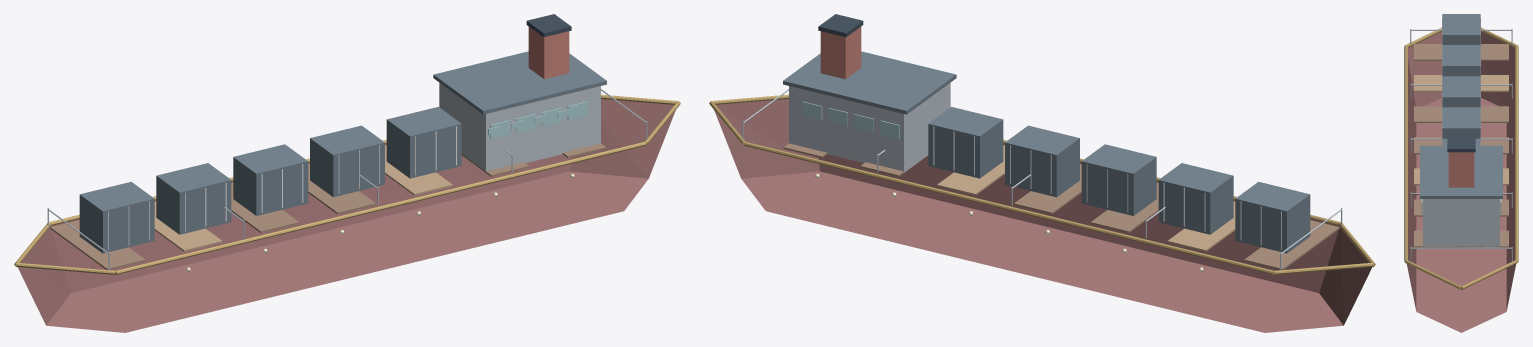
Rendered from barco_fondo.glb.
3 views of the same model, side by side, from view 1: azimuth 30°, elevation 25°; view 2: azimuth 150°, elevation 25°; view 3: azimuth 270°, elevation 25° (orthographic). The views are drawn at different scales.
Visible parts, largest first — view 1: barco_fondo; view 2: barco_fondo; view 3: barco_fondo.
Boxes of the visible parts, box(x1,y1,x2,y2) form: barco_fondo: box(14, 14, 680, 332); barco_fondo: box(709, 14, 1375, 332); barco_fondo: box(1404, 14, 1518, 332).
Size of the model in its own units: 34.63 by 8.93 by 6.2.
